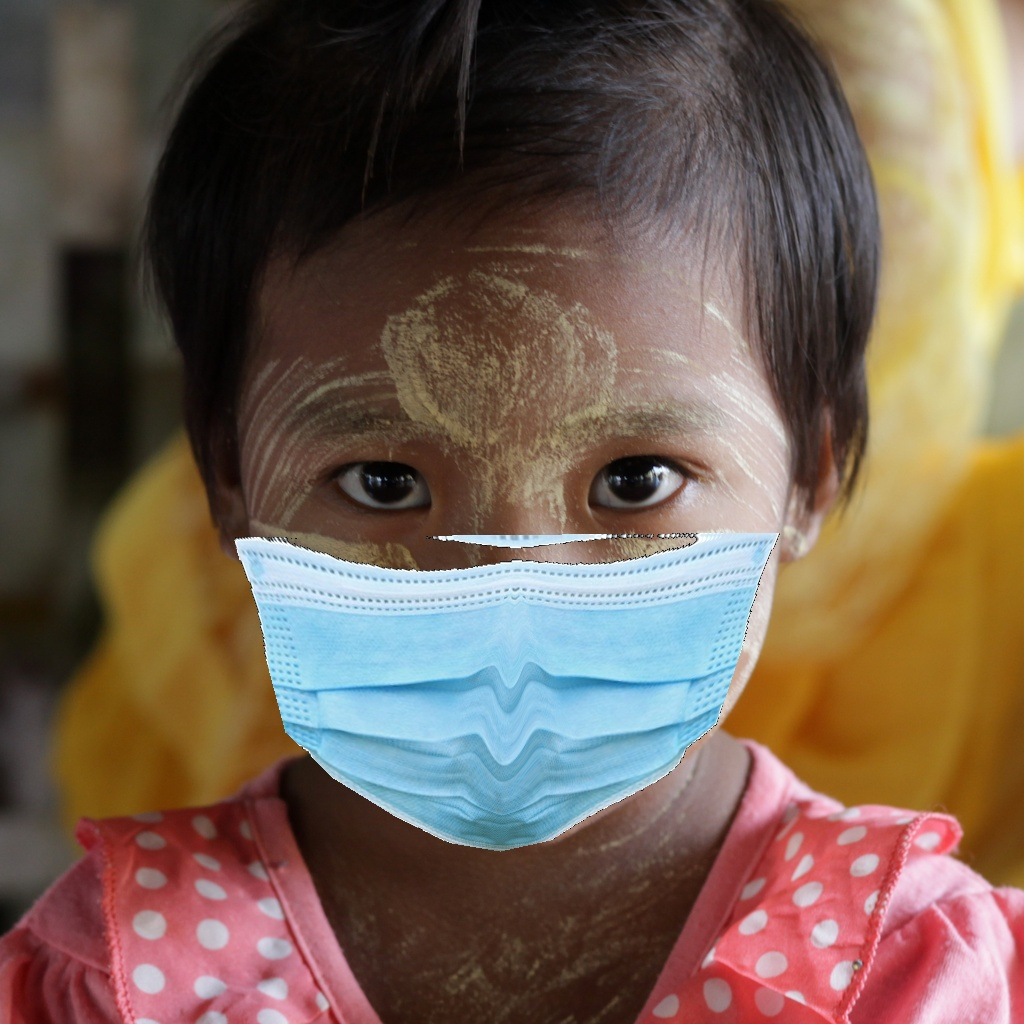with_mask: (246, 392, 781, 857)
